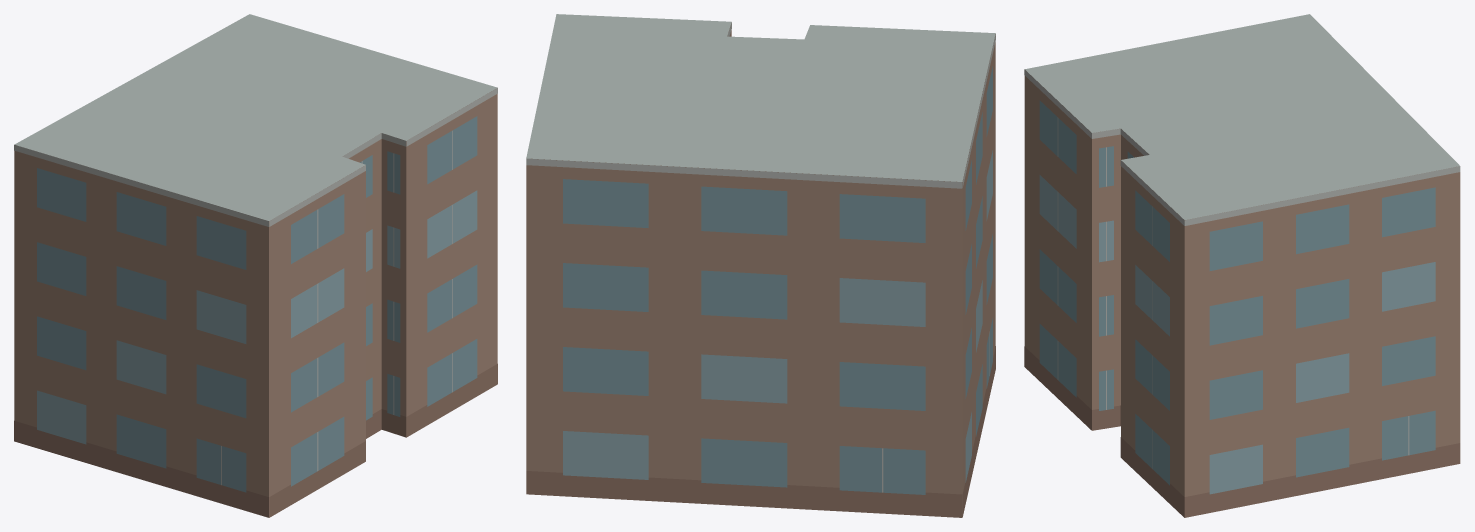
The model's file is survey-upis-32593821.glb.
3 views of the same model, side by side, from view 1: azimuth 30°, elevation 25°; view 2: azimuth 150°, elevation 25°; view 3: azimuth 270°, elevation 25° (orthographic). The views are drawn at different scales.
Parts seen in each view (by area): view 1: survey-upis-32593821.tmp; view 2: survey-upis-32593821.tmp; view 3: survey-upis-32593821.tmp.
Part boxes in pixels (x1,y1,x2,y2): survey-upis-32593821.tmp: (14,14,497,517); survey-upis-32593821.tmp: (526,14,995,517); survey-upis-32593821.tmp: (1024,14,1460,517).
Size of the model in its own units: 18.13 by 12.2 by 16.2.
